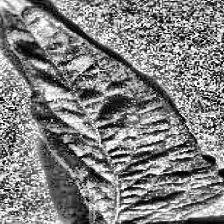spider mites: (0, 0, 224, 218)
